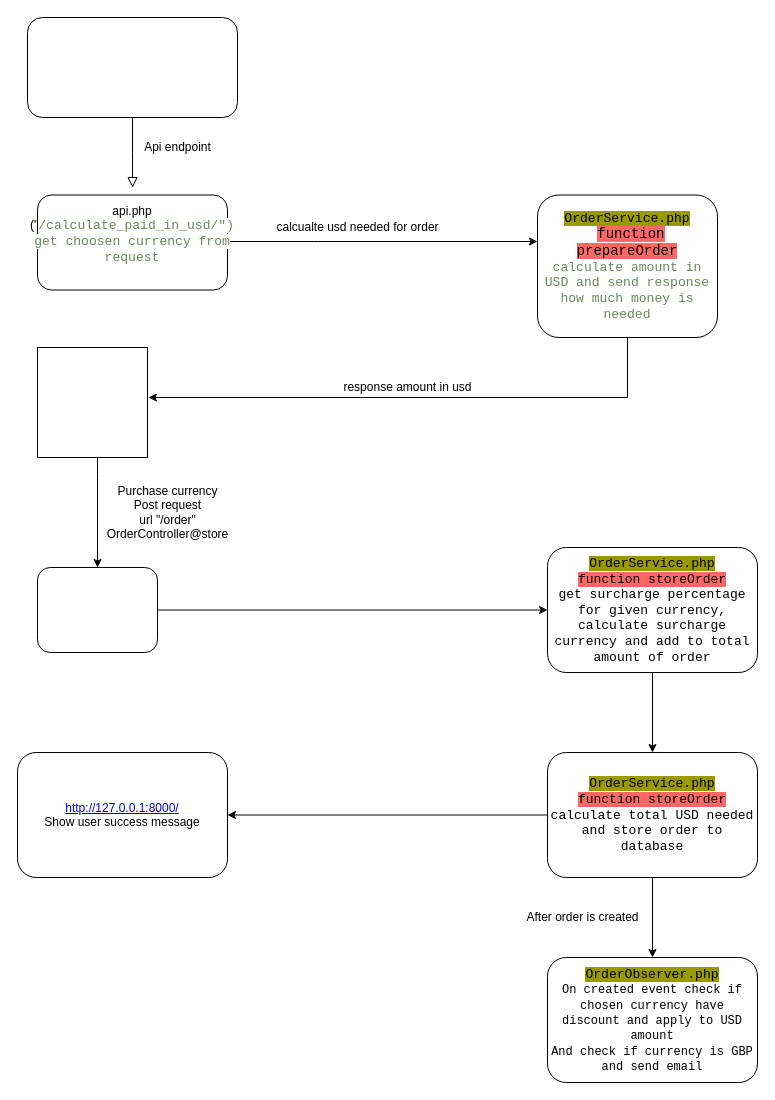
This 775x1100 diagram has some shape labels left out. The shapes that lost their labels are listed below. From the top down, each one's centre as x and y in pixels, then its label:
pixel 132 67: http://127.0.0.1:8000/ User came on website and choose currency and amount
pixel 92 402: http://127.0.0.1:8000/ Usd amount is showed to user and button to purchase
pixel 97 609: Custom validation StoreOrderRequest
